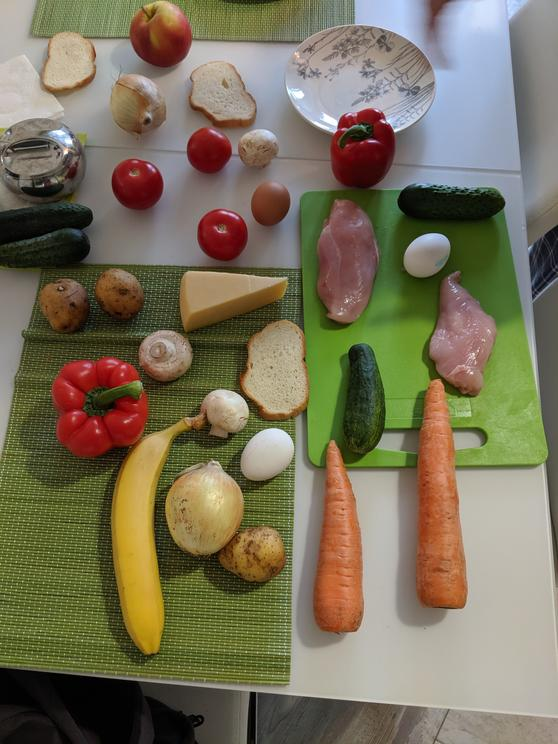apple: (127, 1, 195, 64)
banana: (110, 416, 203, 653)
carrot: (416, 388, 468, 609), (316, 437, 368, 632)
champignon: (140, 330, 194, 383), (198, 388, 248, 438), (237, 130, 277, 166)
cheese: (179, 267, 290, 327)
chicken_fillet: (428, 266, 502, 395), (319, 193, 382, 325)
cucumber: (340, 345, 392, 458), (397, 179, 506, 222), (3, 225, 94, 269), (1, 202, 94, 233)
egg: (402, 230, 452, 280), (252, 179, 290, 225)
onion: (168, 456, 245, 561), (110, 74, 169, 135)
pepper: (55, 353, 148, 454), (334, 109, 398, 190)
potato: (224, 525, 292, 585), (35, 277, 92, 337), (95, 261, 147, 324)
tomato: (115, 158, 166, 209), (200, 209, 247, 261), (185, 127, 232, 175)
white_bread: (240, 319, 308, 419), (190, 56, 256, 125), (42, 32, 98, 96)
